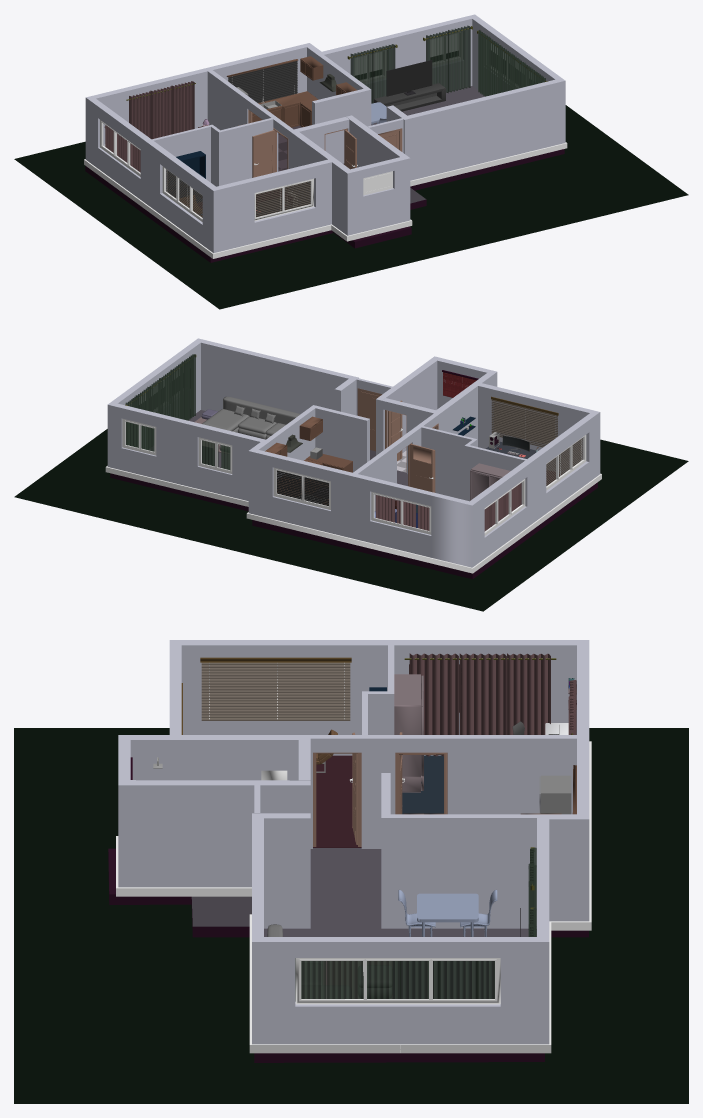
Rendered from house_int.glb.
The picture shows the model from 3 angles, top to bottom: view 1: azimuth 30°, elevation 25°; view 2: azimuth 150°, elevation 25°; view 3: azimuth 270°, elevation 25°; orthographic projection. The views are drawn at different scales.
Visible parts, largest first — view 1: Base_Walls_4, Base_Outside_5, Baseboard_0, LR_Curtain3_113, LR_Curtain2_112, KC_Blind_45, LR_Curtain1_111, LR_Floor_105, LR_TV_99, KC_CabinetLow_38, OF_Blind_63, OF_Door_70 (+13 smaller); view 2: Base_Walls_4, Base_Outside_5, Baseboard_0, LR_Curtain3_113, OF_Blind_63, LR_Couch_97, BR_Door_18, BR_Floor_27, KC_Blind_45, LR_Floor_105, BR_Closet_6, Base_EntranceDoor_1 (+17 smaller); view 3: Base_Outside_5, Base_Walls_4, OF_Blind2_65, LR_Floor_105, LR_Curtain3_113, Baseboard_0, Base_CorridorFloor_2, BR_Curtain5_32, OF_Floor_82, BR_Curtain6_33, BR_Curtain4_31, LR_Window_114 (+12 smaller).
Boxes of the visible parts, left/top/right/bottom form: Base_Walls_4: left=85, top=14, right=565, bottom=253; Base_Outside_5: left=14, top=51, right=688, bottom=309; Baseboard_0: left=84, top=142, right=567, bottom=258; LR_Curtain3_113: left=478, top=30, right=545, bottom=96; LR_Curtain2_112: left=426, top=25, right=470, bottom=93; KC_Blind_45: left=228, top=61, right=297, bottom=102; LR_Curtain1_111: left=350, top=44, right=395, bottom=103; LR_Floor_105: left=371, top=86, right=564, bottom=190; LR_TV_99: left=386, top=60, right=432, bottom=96; KC_CabinetLow_38: left=252, top=91, right=318, bottom=127; OF_Blind_63: left=256, top=181, right=310, bottom=217; OF_Door_70: left=252, top=128, right=288, bottom=177; Base_Walls_4: left=107, top=338, right=600, bottom=567; Base_Outside_5: left=14, top=429, right=688, bottom=611; Baseboard_0: left=105, top=466, right=601, bottom=573; LR_Curtain3_113: left=125, top=354, right=195, bottom=449; OF_Blind_63: left=491, top=399, right=557, bottom=447; LR_Couch_97: left=202, top=396, right=300, bottom=439; BR_Door_18: left=398, top=443, right=435, bottom=492; BR_Floor_27: left=349, top=504, right=532, bottom=579; KC_Blind_45: left=277, top=470, right=328, bottom=506; LR_Floor_105: left=110, top=410, right=248, bottom=511; BR_Closet_6: left=470, top=463, right=510, bottom=500; Base_EntranceDoor_1: left=357, top=388, right=381, bottom=451; Base_Outside_5: left=14, top=728, right=688, bottom=1103; Base_Walls_4: left=118, top=640, right=589, bottom=1044; OF_Blind2_65: left=201, top=662, right=350, bottom=720; LR_Floor_105: left=254, top=925, right=544, bottom=1062; LR_Curtain3_113: left=295, top=958, right=494, bottom=1001; Baseboard_0: left=116, top=741, right=591, bottom=1053; Base_CorridorFloor_2: left=310, top=848, right=381, bottom=925; BR_Curtain5_32: left=459, top=653, right=506, bottom=734; OF_Floor_82: left=313, top=755, right=361, bottom=847; BR_Curtain6_33: left=507, top=653, right=550, bottom=734; BR_Curtain4_31: left=409, top=653, right=458, bottom=756; LR_Window_114: left=295, top=958, right=500, bottom=1004.
Size of what is drawn, in the model's own units: 17.53 by 2.64 by 13.3.
